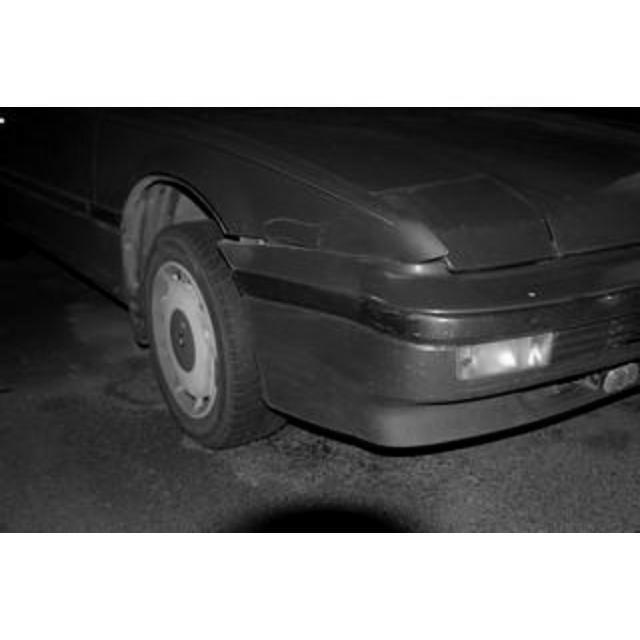bonnet-dent: (312, 145, 638, 285)
fender-dent: (92, 147, 310, 265)
